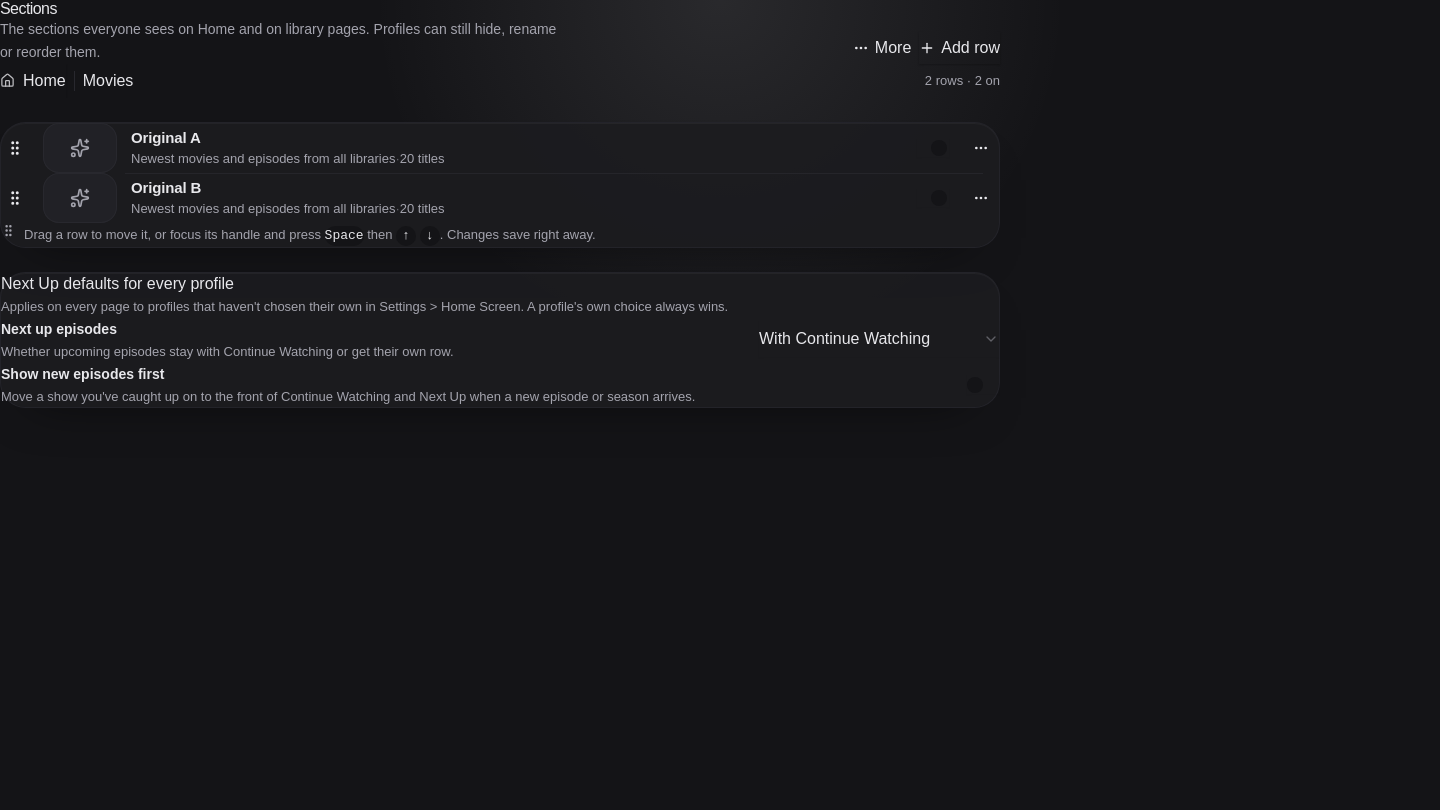
Scenario: admin section captured snapshots › disables unsupported profile reset and keeps restore confirmation after stale save
Expected: the button named "More for Original A" is shown, [963,130,999,166]
Expected: the button "Add row" is enabled, [919,32,1000,64]
Click the button "More". click: {"x": 882, "y": 48}
box: [853,32,911,64]
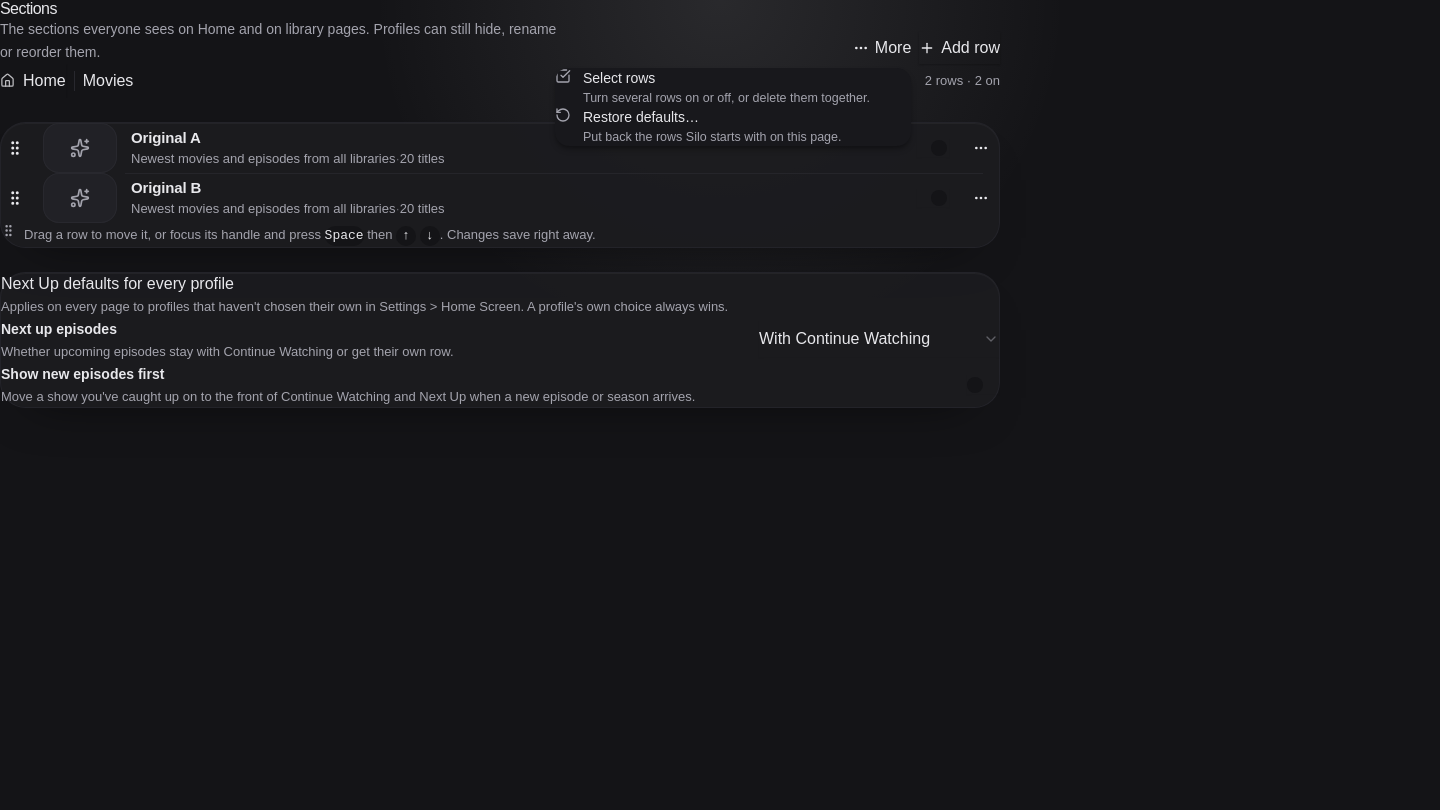
Click the menu item "Restore defaults…". click: {"x": 698, "y": 126}
box: [555,107,842,144]
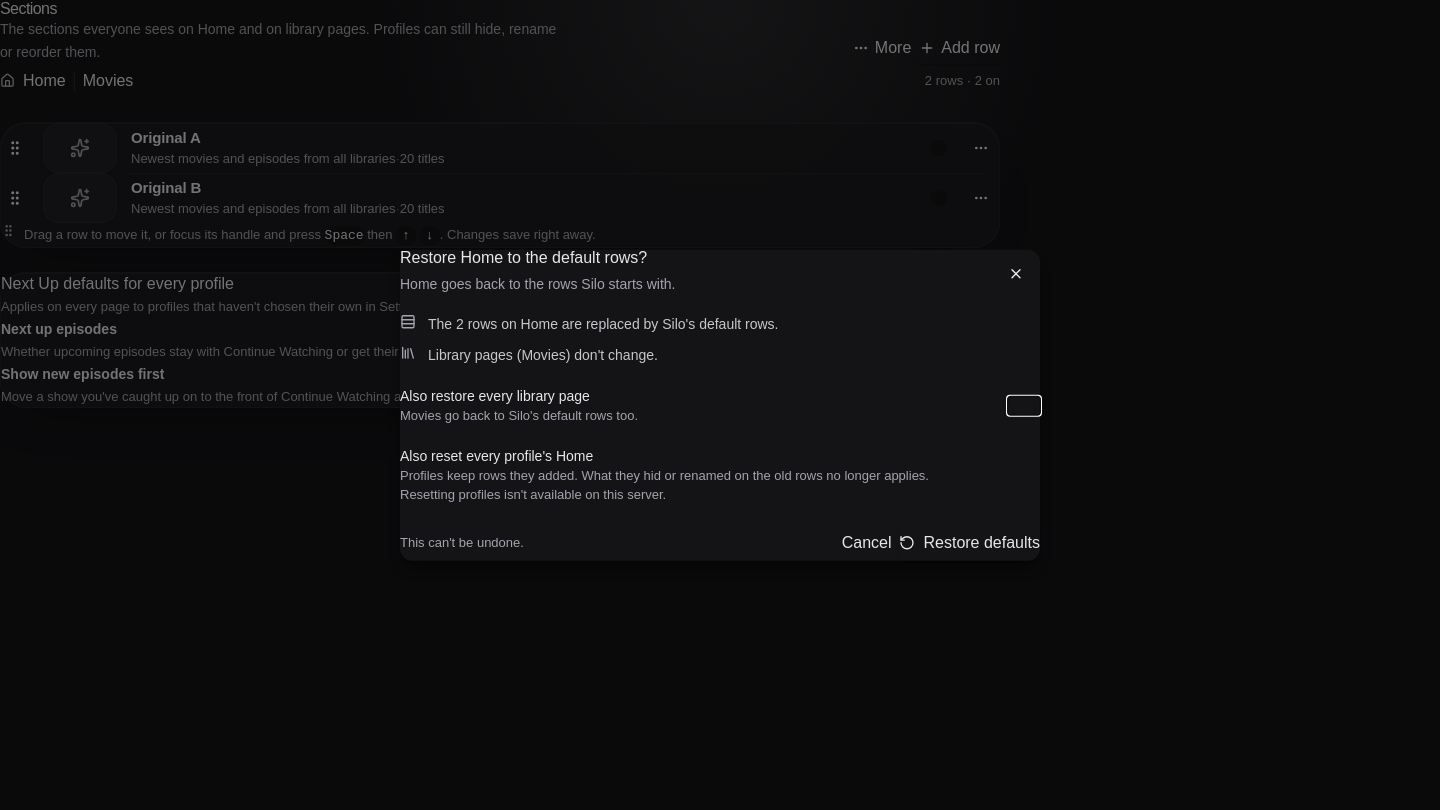
Now the text "Resetting profiles isn't available on this server." is shown, box [400,487,666,502]
Click the button "Restore defaults". click: {"x": 970, "y": 542}
box: [900,524,1040,560]
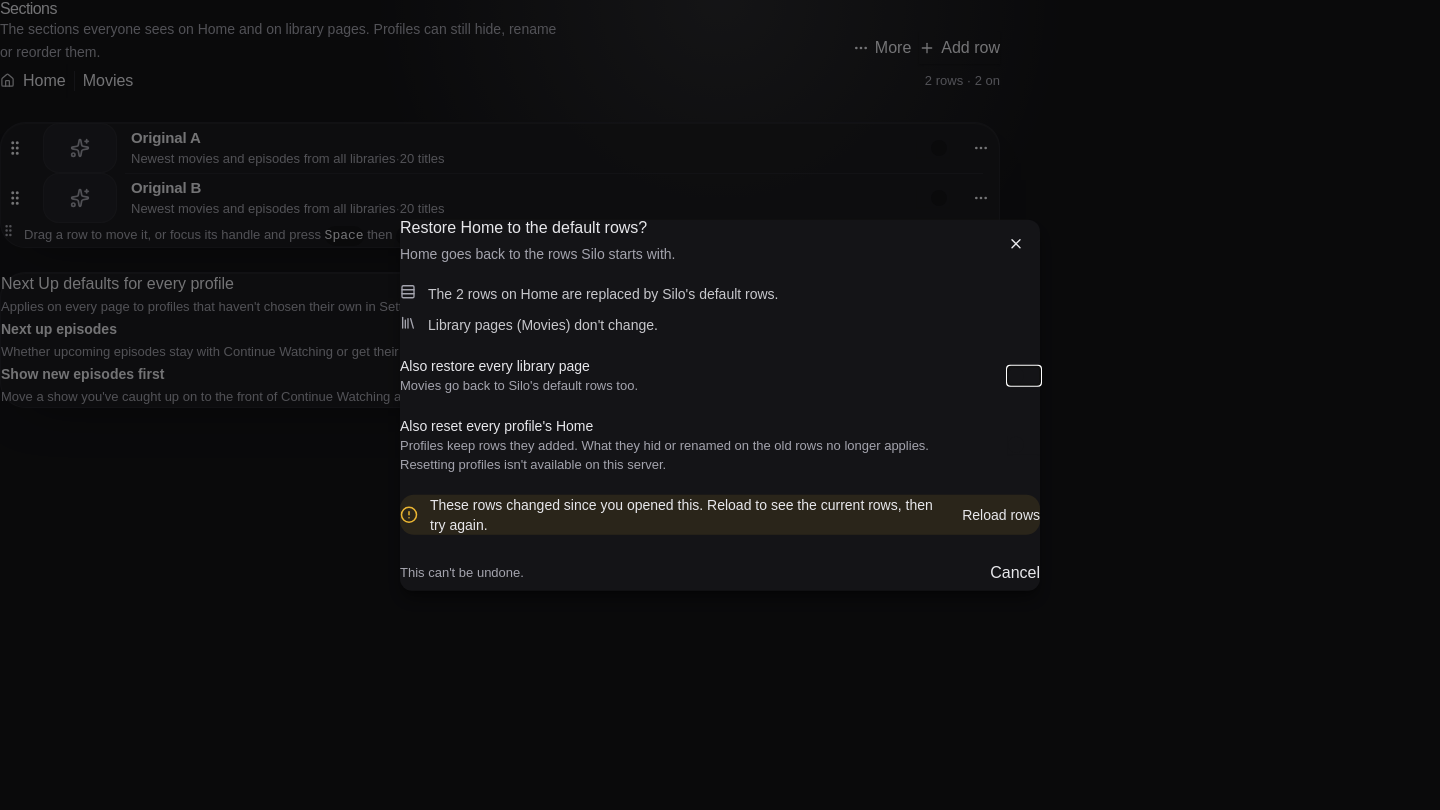
Now the dialog "Restore Home to the default rows?" is shown, box [400,220,1040,590]
Now the text "These rows changed since you opened this" is shown, box [430,496,933,532]
Click the button "Reload rows". click: {"x": 1001, "y": 514}
box: [962,498,1040,530]
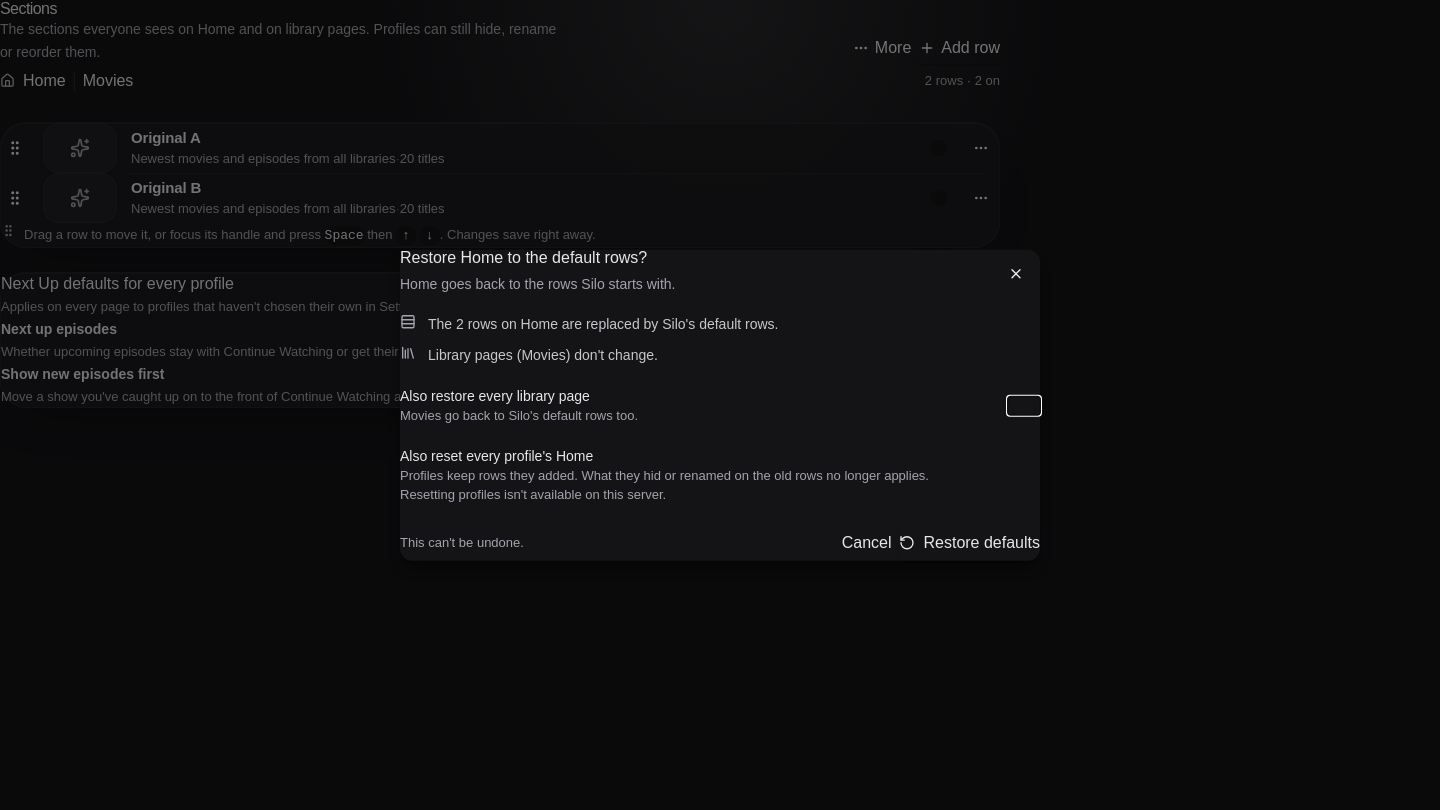
Click the button "Restore defaults". click: {"x": 970, "y": 542}
box: [900,524,1040,560]
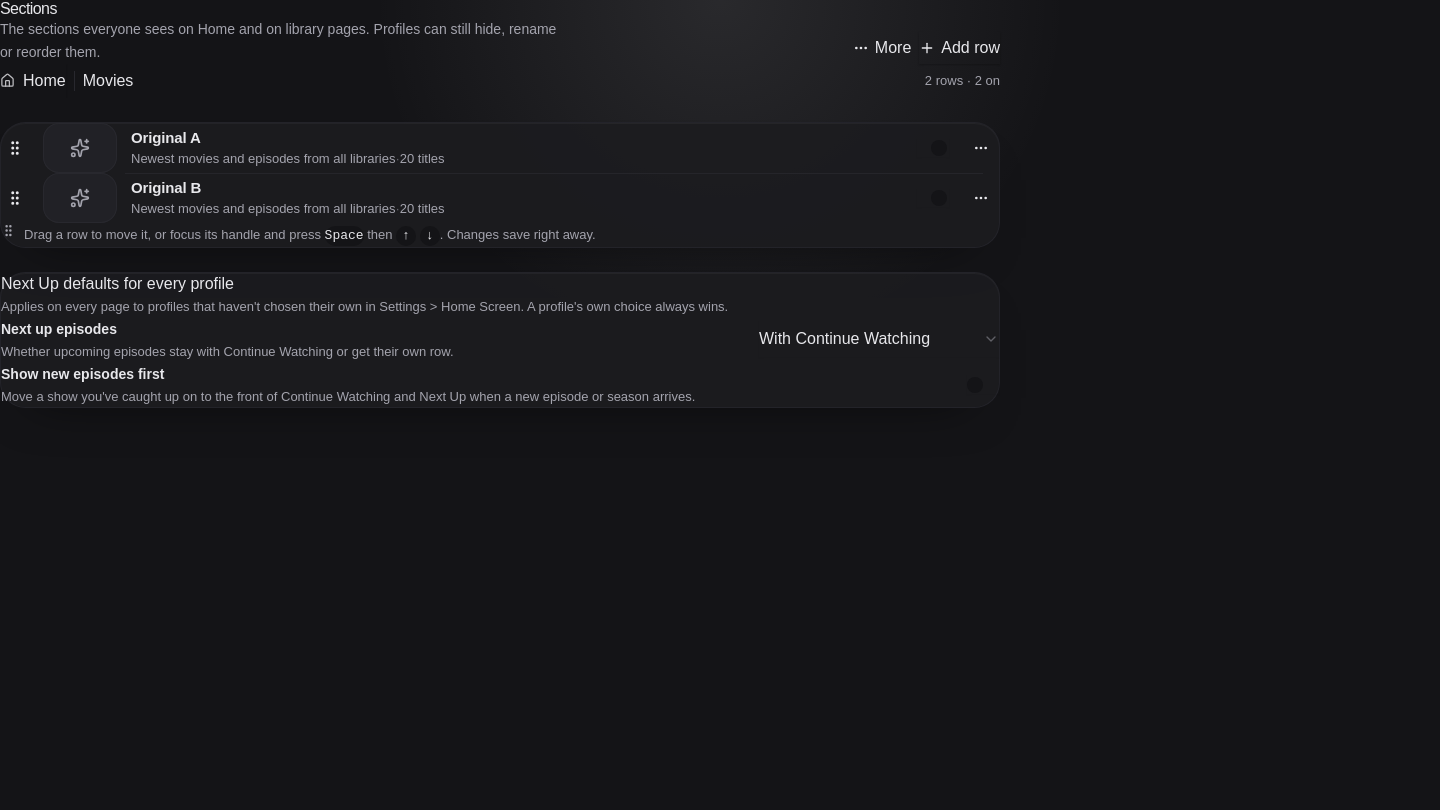
Now the dialog is gone
